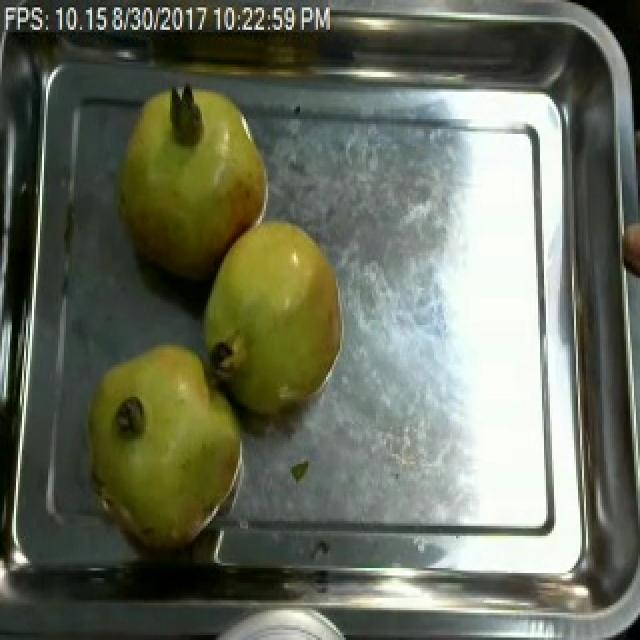fruit: (64, 325, 256, 566), (186, 206, 354, 427), (106, 74, 278, 288), (614, 194, 640, 298)
